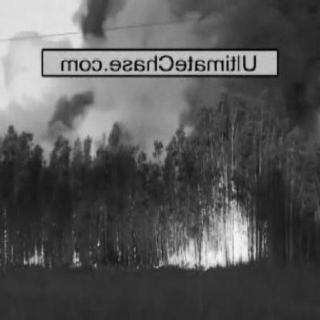Smoke: (89, 2, 315, 46)
